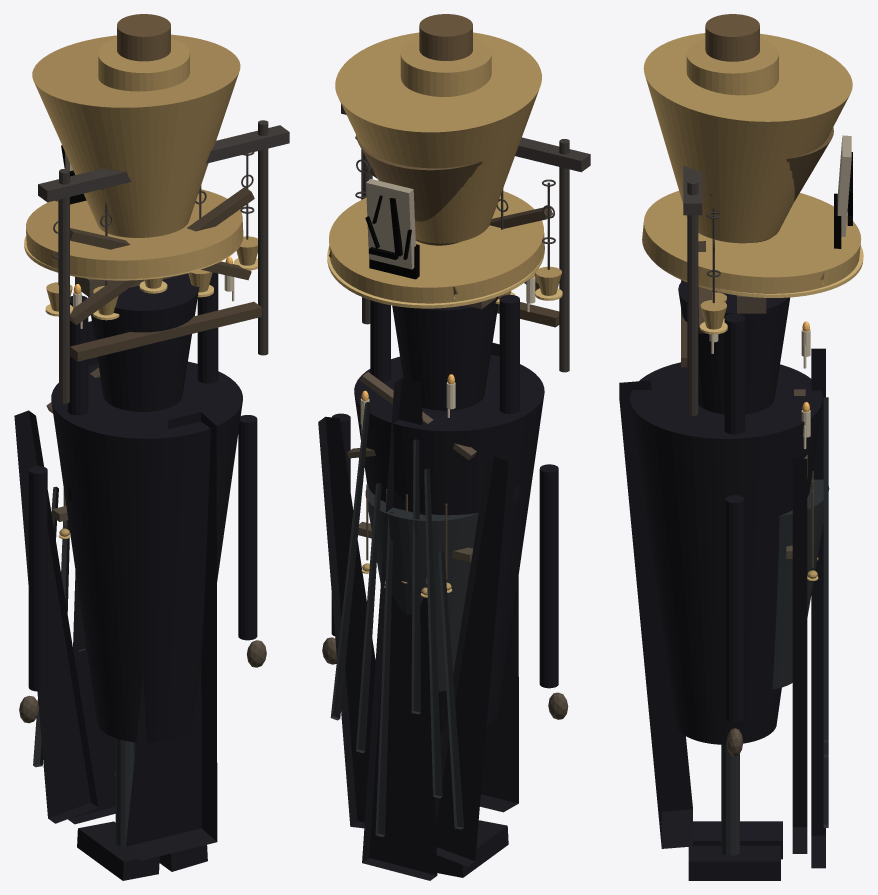
Rendered from bell_saint_v5_artpass.glb.
3 views of the same model, side by side, from view 1: azimuth 30°, elevation 25°; view 2: azimuth 150°, elevation 25°; view 3: azimuth 270°, elevation 25° (orthographic).
Parts seen in each view (by area): view 1: BS5_RobeOuter_tapered, BS5_BellHead_MainFlare, BS5_BackTrain, BS5_LeftRobeFall, BS5_BellHead_HeavyRim, BS5_UpperTorso_narrow, BS5_LeftForeSleeve, BS5_RightForeSleeve, BS5_FrontBladePanel, BS5_BellHead_TopCrown, BS5_BackTopCrossbar, BS5_BackLowCrossbar (+12 smaller); view 2: BS5_BellHead_MainFlare, BS5_RobeOuter_tapered, BS5_FrontBladePanel, BS5_LeftRobeFall, BS5_BellHead_HeavyRim, BS5_RightRobeFall, BS5_UpperTorso_narrow, BS5_RobeInner_shadow, BS5_BackTrain, BS5_LeftForeSleeve, BS5_BellHead_TopCrown, BS5_BellHead_DarkInterior (+20 smaller); view 3: BS5_RobeOuter_tapered, BS5_BellHead_MainFlare, BS5_BellHead_HeavyRim, BS5_BackTrain, BS5_UpperTorso_narrow, BS5_RightRobeFall, BS5_FrontBladePanel, BS5_RightForeSleeve, BS5_RobeInner_shadow, BS5_BellHead_TopCrown, BS5_RightFoot_shadow, BS5_RightUpperSleeve (+11 smaller).
Part boxes in pixels (box(x1,y1,x2,y2)): BS5_RobeOuter_tapered: box(51, 361, 242, 742); BS5_BellHead_MainFlare: box(32, 34, 240, 237); BS5_BackTrain: box(126, 412, 217, 860); BS5_LeftRobeFall: box(14, 410, 98, 823); BS5_BellHead_HeavyRim: box(26, 189, 243, 278); BS5_UpperTorso_narrow: box(88, 273, 199, 411); BS5_LeftForeSleeve: box(28, 466, 47, 691); BS5_RightForeSleeve: box(238, 415, 257, 640); BS5_FrontBladePanel: box(68, 321, 115, 824); BS5_BellHead_TopCrown: box(98, 38, 189, 91); BS5_BackTopCrossbar: box(38, 125, 289, 202); BS5_BackLowCrossbar: box(70, 301, 261, 361); BS5_BellHead_MainFlare: box(335, 32, 541, 243); BS5_RobeOuter_tapered: box(354, 355, 544, 732); BS5_FrontBladePanel: box(362, 378, 437, 880); BS5_LeftRobeFall: box(435, 456, 508, 866); BS5_BellHead_HeavyRim: box(329, 191, 544, 303); BS5_RightRobeFall: box(318, 416, 375, 828); BS5_UpperTorso_narrow: box(392, 296, 498, 410); BS5_RobeInner_shadow: box(365, 487, 478, 691); BS5_BackTrain: box(440, 343, 518, 812); BS5_LeftForeSleeve: box(539, 464, 558, 688); BS5_BellHead_TopCrown: box(400, 38, 491, 96); BS5_BellHead_DarkInterior: box(356, 135, 482, 245); BS5_RobeOuter_tapered: box(630, 362, 822, 744); BS5_BellHead_MainFlare: box(643, 33, 852, 243); BS5_BellHead_HeavyRim: box(642, 191, 861, 293); BS5_BackTrain: box(619, 380, 692, 848); BS5_UpperTorso_narrow: box(678, 280, 790, 414); BS5_RightRobeFall: box(792, 458, 807, 853); BS5_FrontBladePanel: box(811, 348, 825, 868); BS5_RightForeSleeve: box(725, 495, 744, 721); BS5_RobeInner_shadow: box(772, 479, 829, 689); BS5_BellHead_TopCrown: box(686, 38, 778, 95); BS5_RightFoot_shadow: box(688, 845, 780, 880); BS5_RightUpperSleeve: box(724, 313, 745, 434).
Size of the model in its own units: 1.36 by 4.4 by 1.16.
